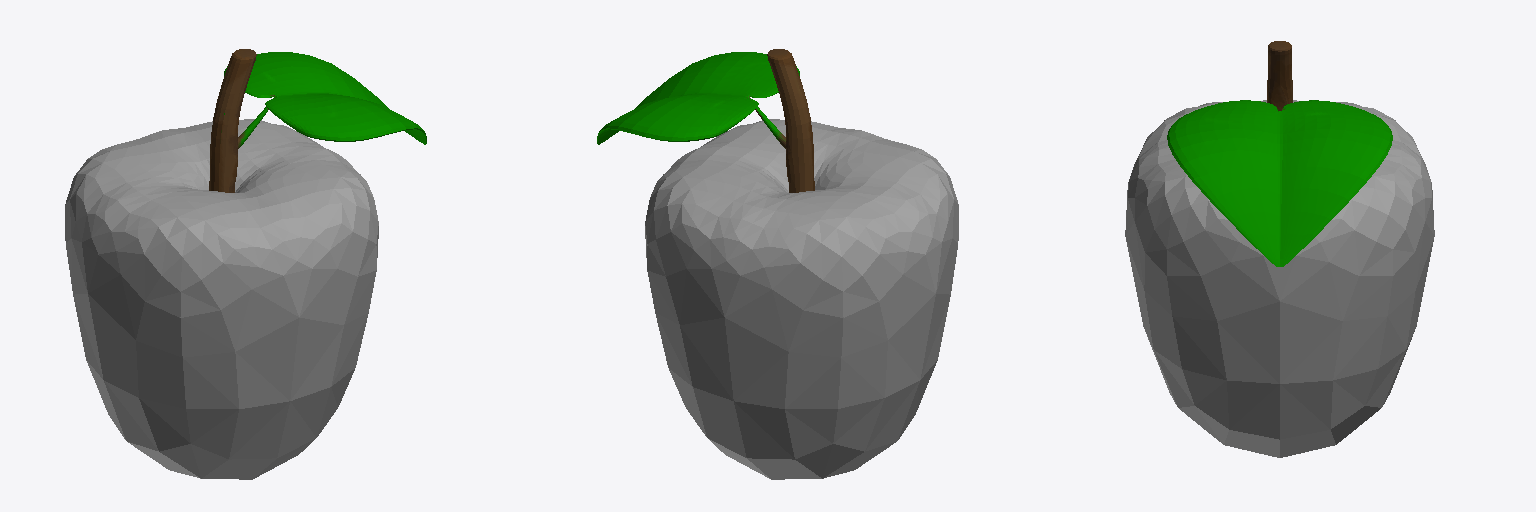
3 renders of one model, left to right at view 1: azimuth 30°, elevation 25°; view 2: azimuth 150°, elevation 25°; view 3: azimuth 270°, elevation 25°, orthographic.
Parts seen in each view (by area): view 1: Fruit_Body, Leaf; view 2: Fruit_Body, Leaf; view 3: Fruit_Body, Leaf.
Part boxes in pixels (left/top/right/bottom): Fruit_Body: left=65, top=119, right=378, bottom=479; Leaf: left=209, top=49, right=426, bottom=192; Fruit_Body: left=645, top=119, right=958, bottom=479; Leaf: left=597, top=49, right=814, bottom=192; Fruit_Body: left=1125, top=100, right=1434, bottom=457; Leaf: left=1167, top=41, right=1392, bottom=266.
Bounding box in the file's own units: 0.7435 × 0.871 × 0.593.
Materials: 2 (1 with a texture image).